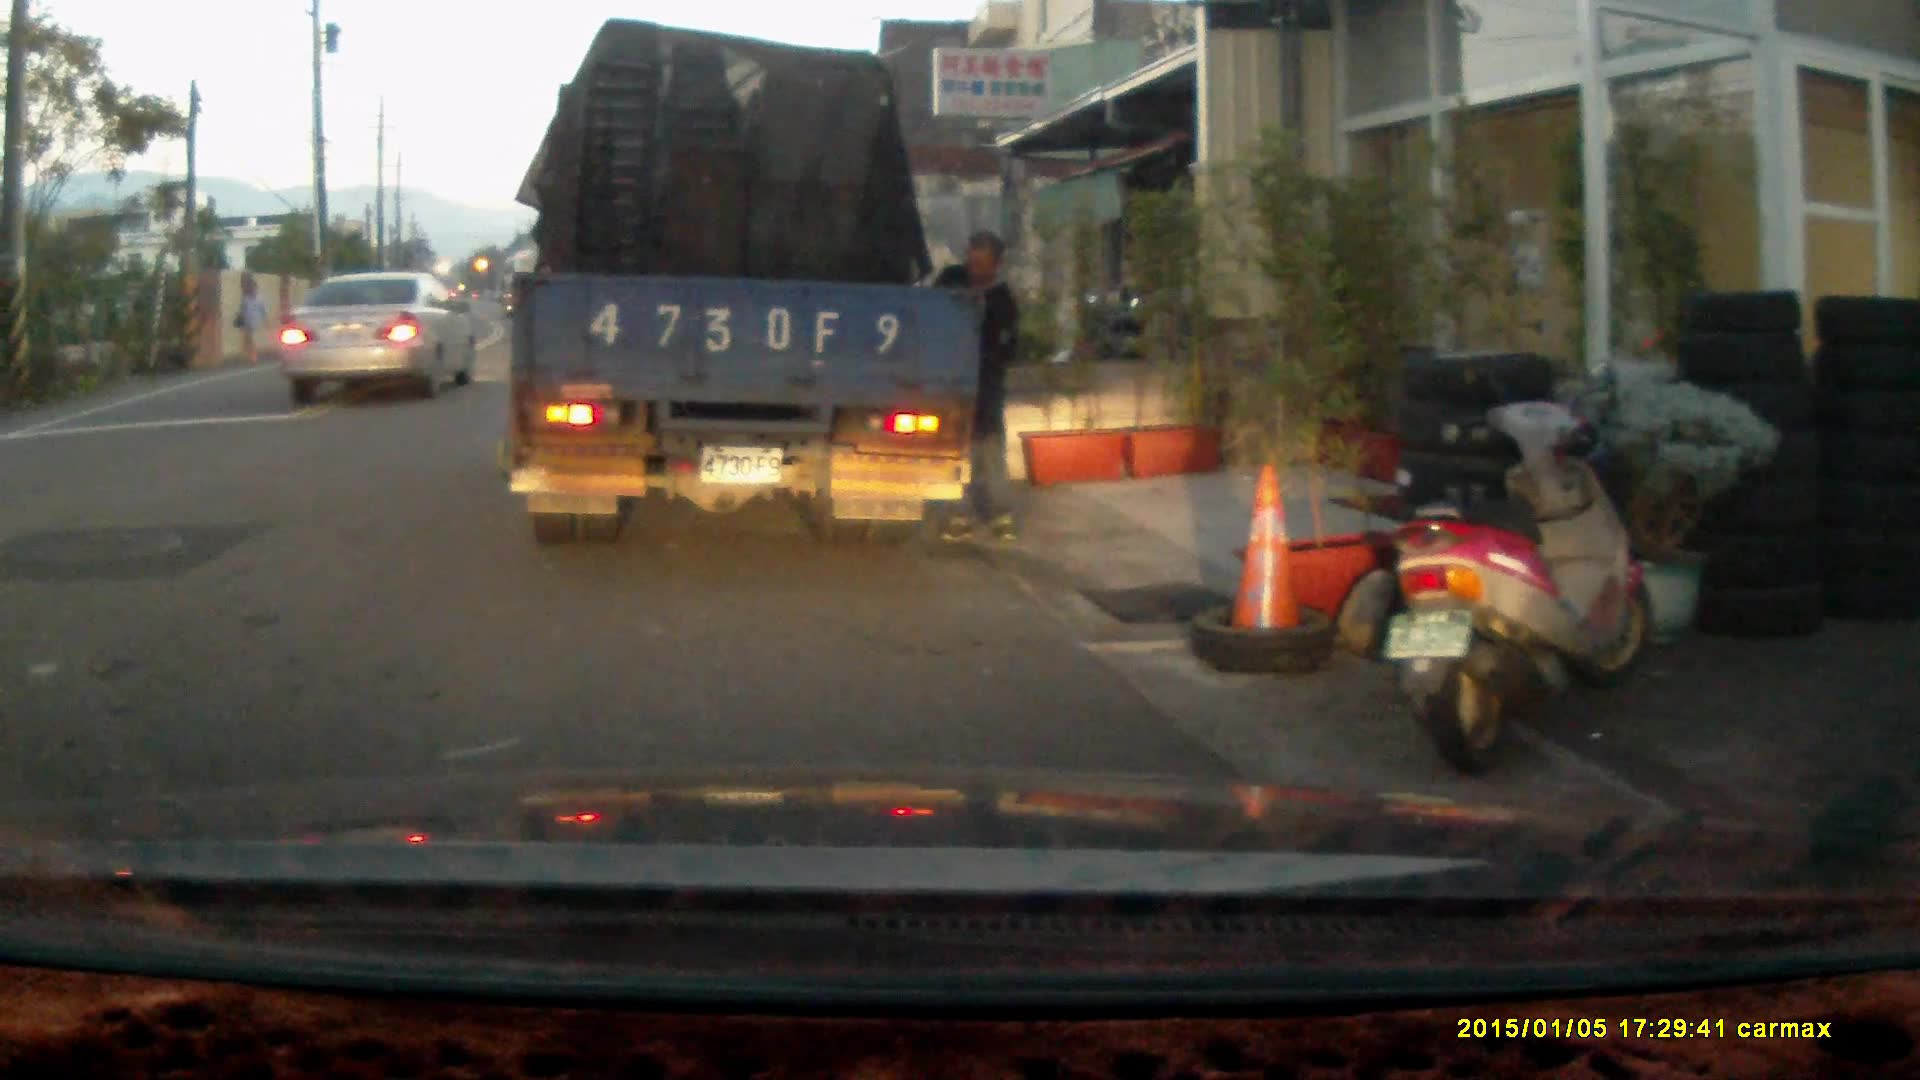pedestrian: (927, 224, 1020, 546), (227, 274, 266, 366)
vehicle: (513, 27, 986, 544), (282, 270, 485, 401)
